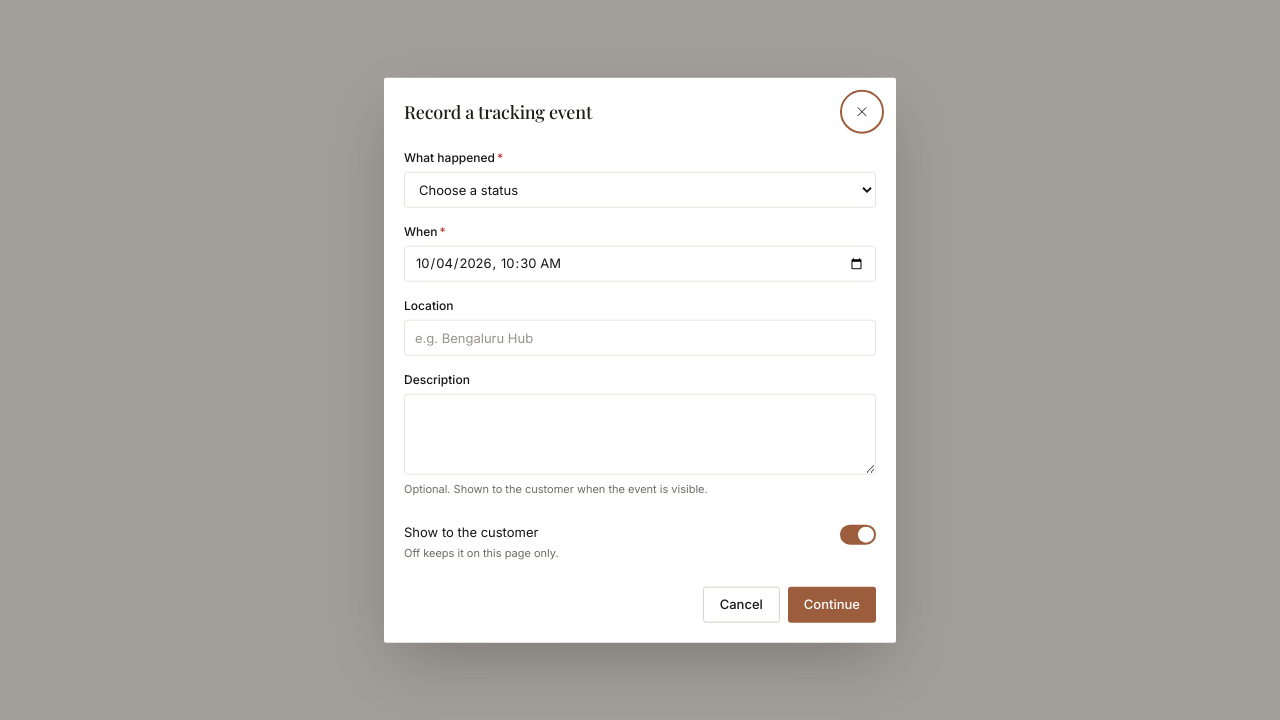
it: ManualEventDialog › asks when it happened
The width and height of the screenshot is (1280, 720).
Clear the field labelled "When*" at (640, 264), box [404,246,876,282]
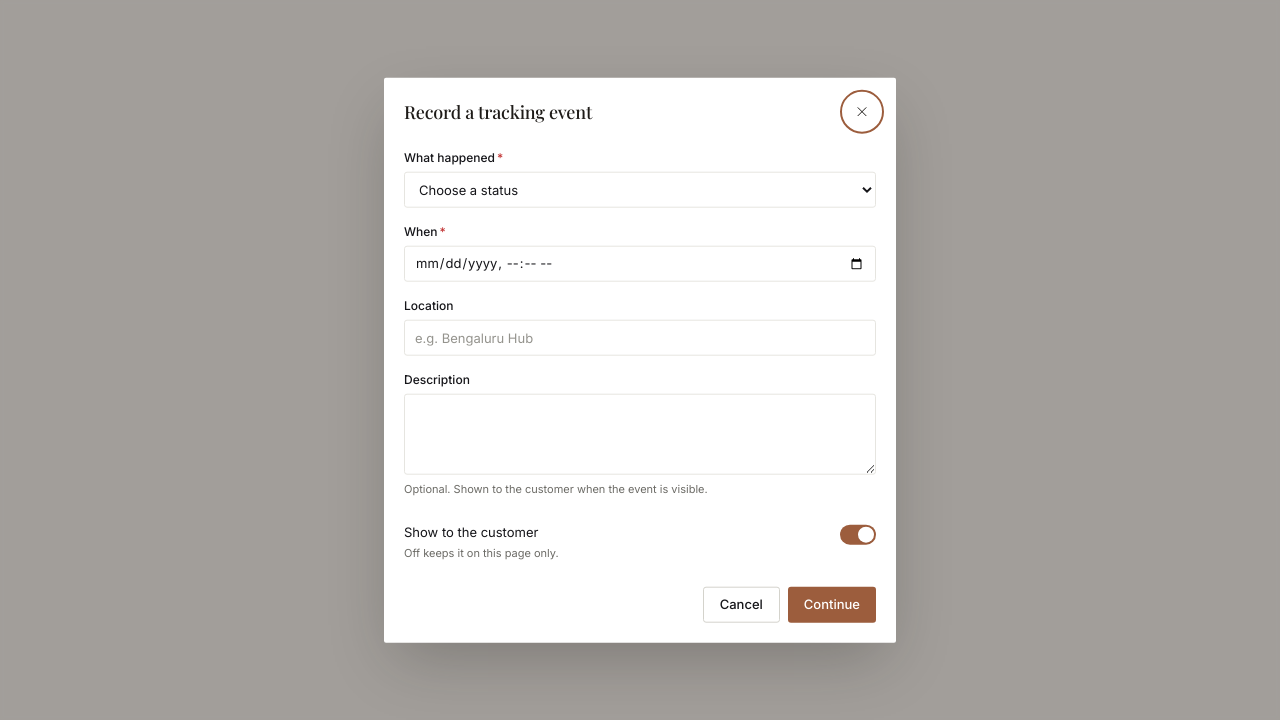
Select "Mark delivered" in the dropdown labelled "What happened*" at (640, 190), box [404,172,876,208]
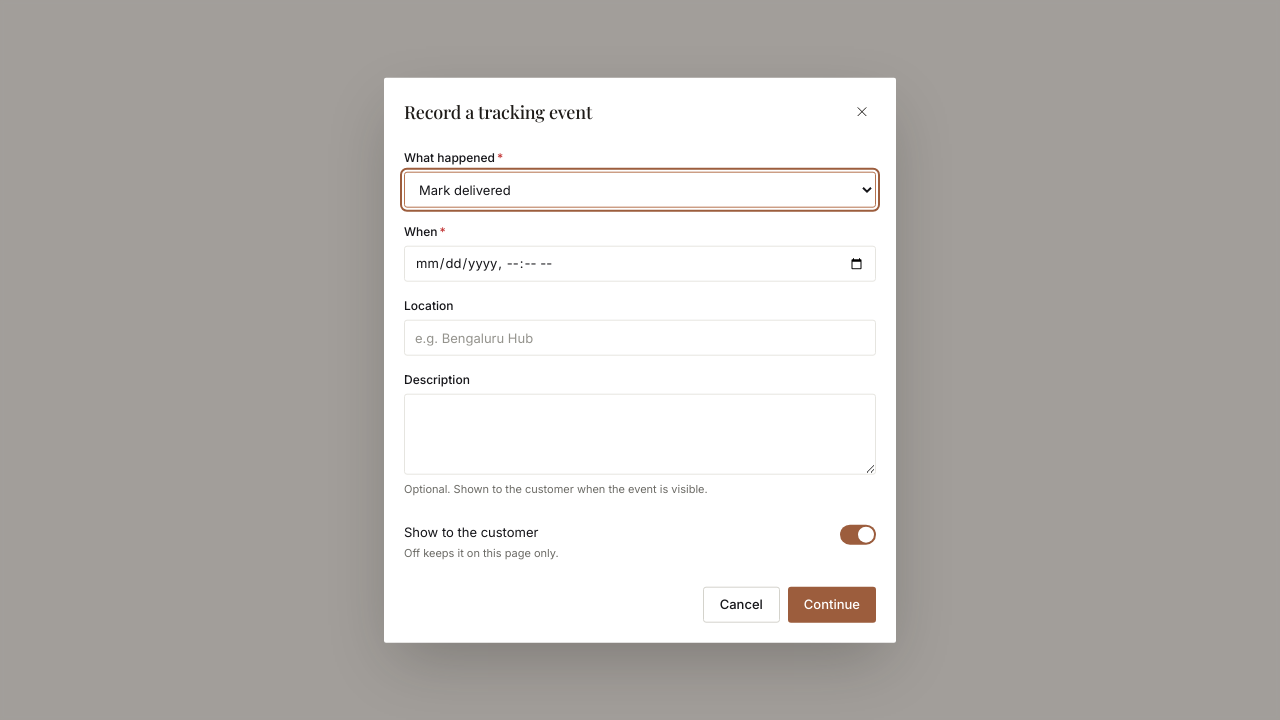
Click the button "Continue" at (832, 604), box [788,586,876,622]
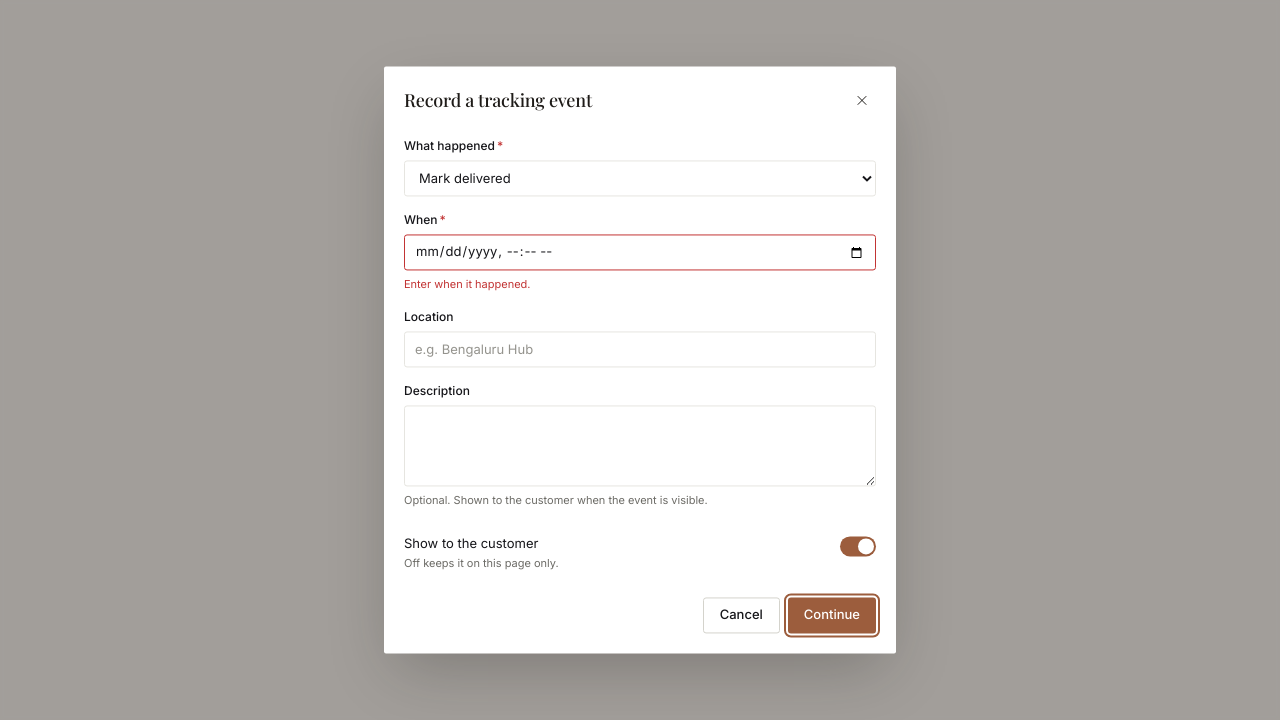
expect the text "Enter when it happened." is shown: met, box [404,277,530,291]
